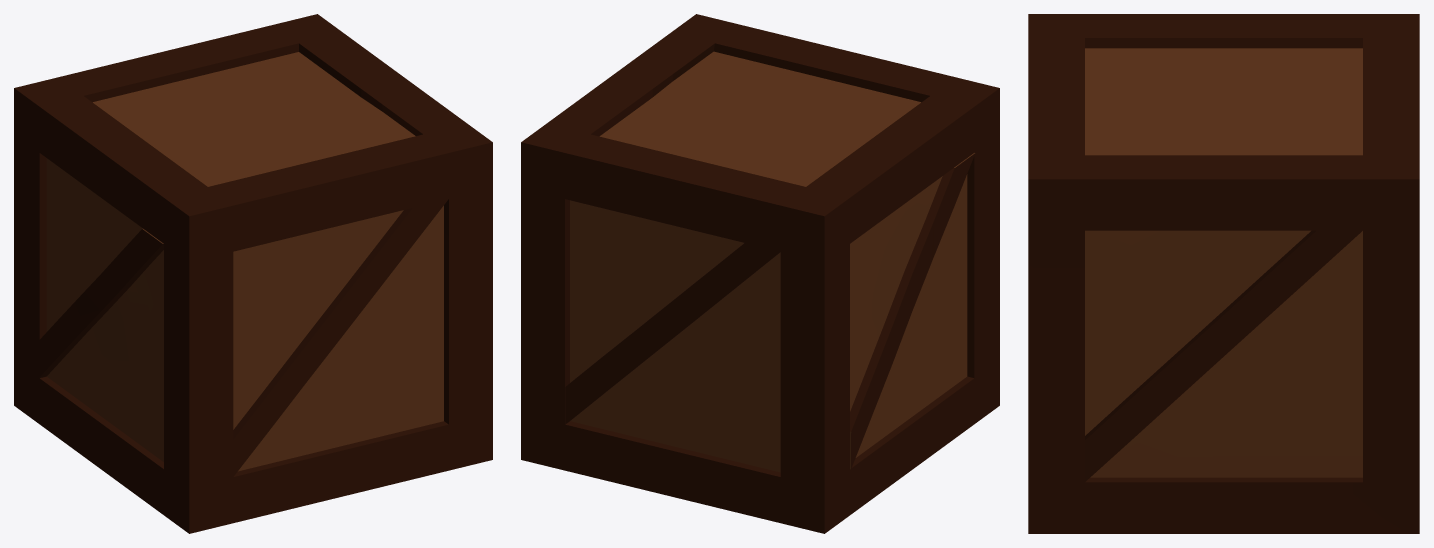
File: caisse.fbx
3 renders of one model, left to right at view 1: azimuth 30°, elevation 25°; view 2: azimuth 150°, elevation 25°; view 3: azimuth 270°, elevation 25°, orthographic. The views are drawn at different scales.
Visible parts, largest first — view 1: Box001; view 2: Box001; view 3: Box001.
Boxes of the visible parts, <box> form: Box001: <box>14,14,492,533</box>; Box001: <box>521,14,999,533</box>; Box001: <box>1028,14,1419,533</box>.
Bounding box in the file's own units: 63.6 × 63.39 × 63.39.
